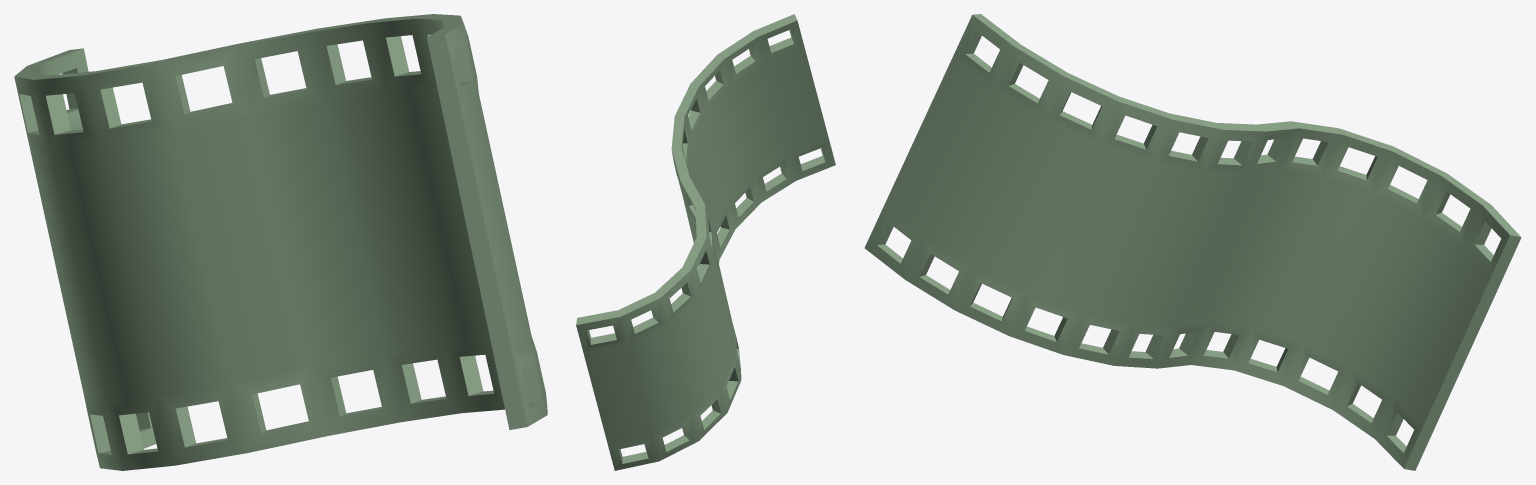
The model's file is SM_Collectible.fbx.
The picture shows the model from 3 angles, left to right: view 1: azimuth 30°, elevation 25°; view 2: azimuth 150°, elevation 25°; view 3: azimuth 270°, elevation 25°; orthographic projection. The views are drawn at different scales.
Parts seen in each view (by area): view 1: SM_Collectible; view 2: SM_Collectible; view 3: SM_Collectible.
Boxes of the visible parts, <box> form: SM_Collectible: <box>14,14,547,470</box>; SM_Collectible: <box>576,14,835,470</box>; SM_Collectible: <box>864,14,1521,470</box>.
Bounding box in the file's own units: 24.18 × 71.44 × 94.95.
